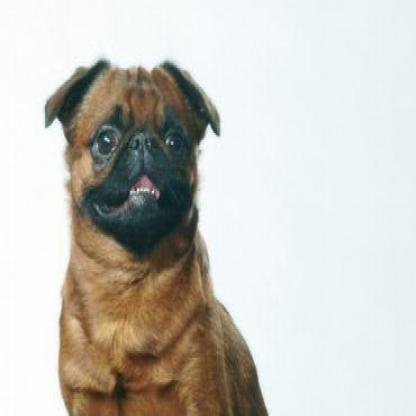Brabancon_griffon: (43, 53, 268, 412)
